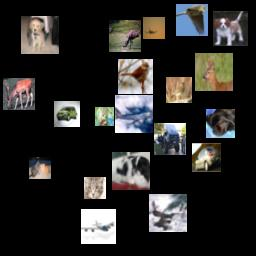airplane: (115, 95, 153, 133), (81, 209, 116, 244), (143, 17, 165, 39)
automobile: (192, 143, 221, 172), (54, 101, 80, 127)
bird: (118, 59, 153, 94), (109, 20, 141, 52), (176, 4, 208, 36), (166, 77, 192, 103)
cat: (84, 177, 106, 199), (29, 157, 51, 179), (95, 107, 114, 126)
deer: (195, 53, 233, 91), (149, 194, 187, 232), (3, 78, 35, 110)
dog: (112, 152, 150, 190), (21, 16, 59, 54), (213, 11, 248, 46), (206, 109, 235, 138)
truck: (154, 123, 186, 155)
